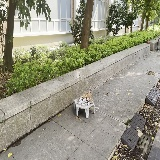fire: (83, 91, 92, 102)
